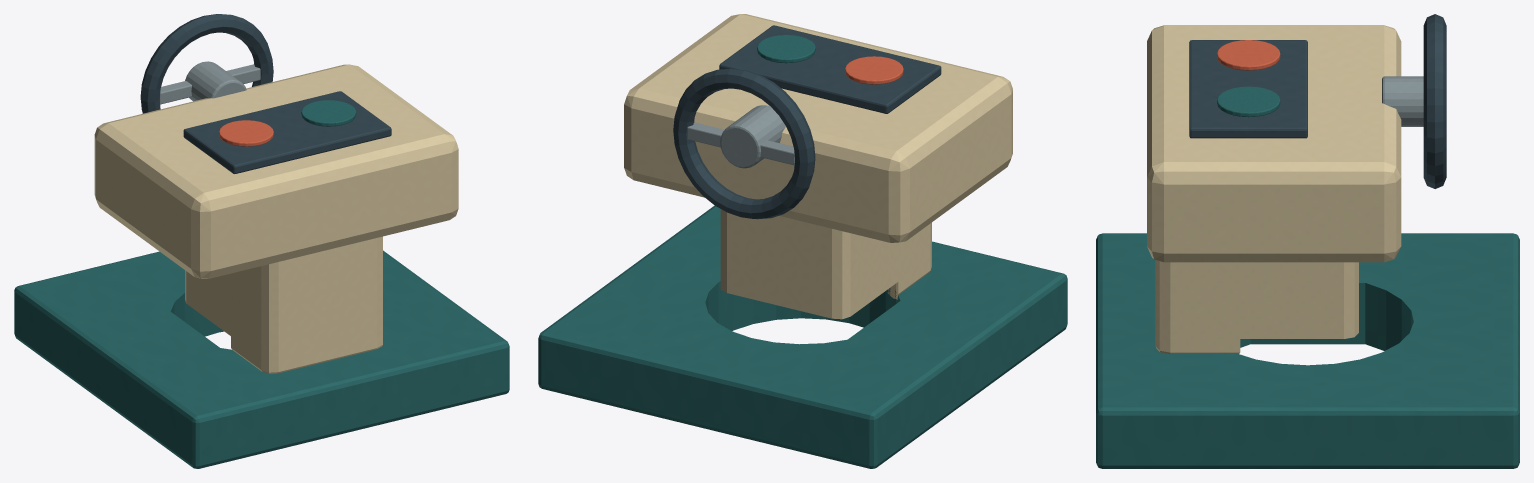
File: helm-lod-0.glb
3 renders of one model, left to right at view 1: azimuth 30°, elevation 25°; view 2: azimuth 150°, elevation 25°; view 3: azimuth 270°, elevation 25°, orthographic. The views are drawn at different scales.
Parts seen in each view (by area): view 1: helm_lod_0; view 2: helm_lod_0; view 3: helm_lod_0.
Boxes of the visible parts, <box> form: helm_lod_0: <box>14,14,509,468</box>; helm_lod_0: <box>538,14,1067,468</box>; helm_lod_0: <box>1096,14,1519,468</box>.
Bounding box in the file's own units: 1 × 0.937 × 1.
Materials: 1 (1 with a texture image).
